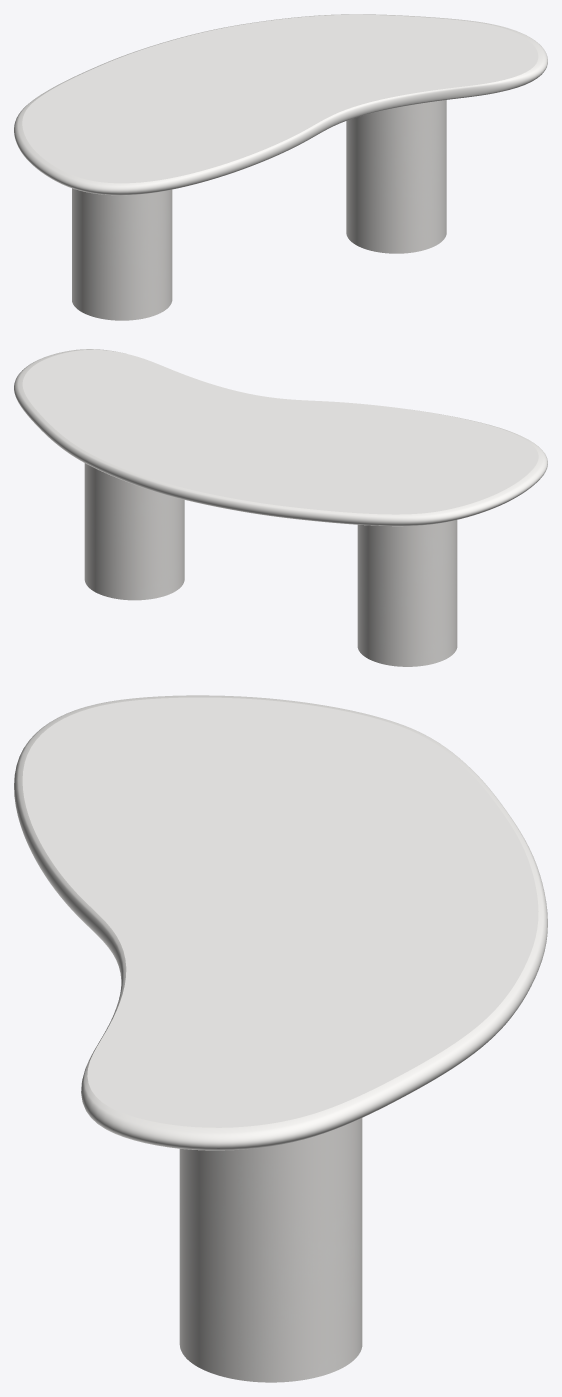
The model's file is purewhite_leaf1_round_stream.glb.
The picture shows the model from 3 angles, top to bottom: view 1: azimuth 30°, elevation 25°; view 2: azimuth 150°, elevation 25°; view 3: azimuth 270°, elevation 25°; orthographic projection. The views are drawn at different scales.
Visible parts, largest first — view 1: round_leaf1, stream; view 2: round_leaf1, stream; view 3: round_leaf1, stream.
Boxes of the visible parts, bbox=[...] form: round_leaf1: bbox=[14, 14, 547, 195]; stream: bbox=[72, 100, 446, 320]; round_leaf1: bbox=[14, 349, 547, 526]; stream: bbox=[84, 463, 457, 666]; round_leaf1: bbox=[14, 695, 547, 1150]; stream: bbox=[179, 1118, 362, 1382].
Bounding box in the file's own units: 7.5 × 2.51 × 3.8.
Materials: 1 (1 with a texture image).
